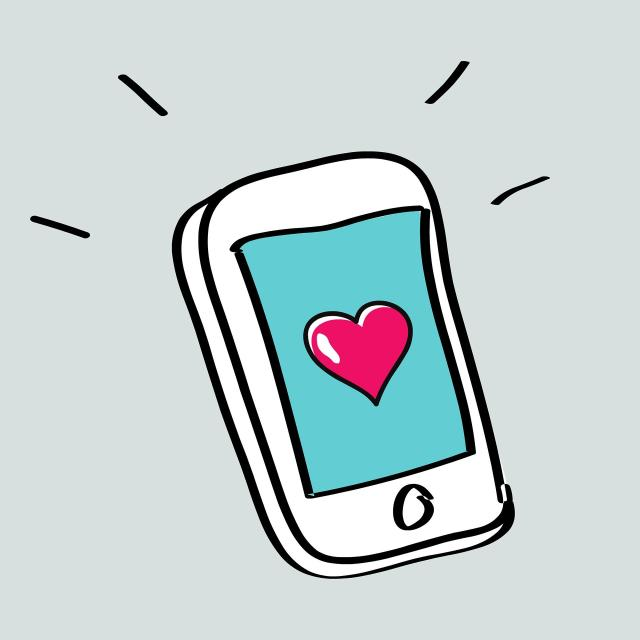Mobile: (166, 102, 521, 609)
